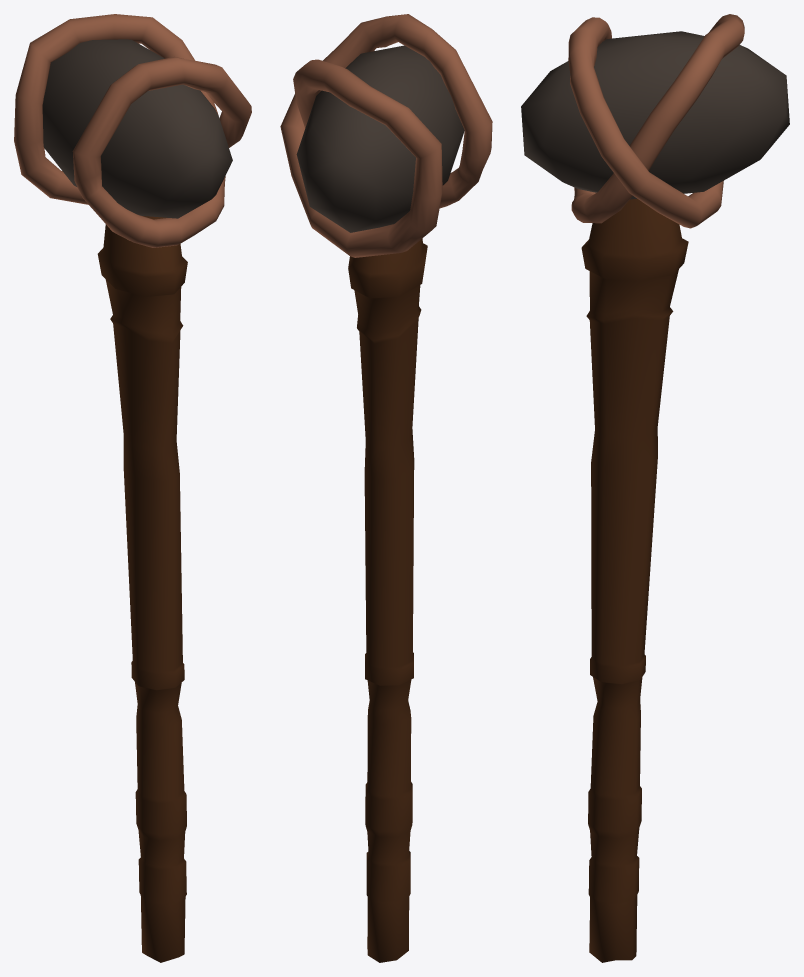
The model's file is mazapiedra.fbx.
3 renders of one model, left to right at view 1: azimuth 30°, elevation 25°; view 2: azimuth 150°, elevation 25°; view 3: azimuth 270°, elevation 25°, orthographic. The views are drawn at different scales.
Parts seen in each view (by area): view 1: arma; view 2: arma; view 3: arma.
Part boxes in pixels (box(x1,y1,x2,y2)): arma: box(14, 14, 251, 962); arma: box(280, 14, 492, 962); arma: box(521, 14, 789, 962).
Bounding box in the file's own units: 33.12 × 151 × 39.55.
